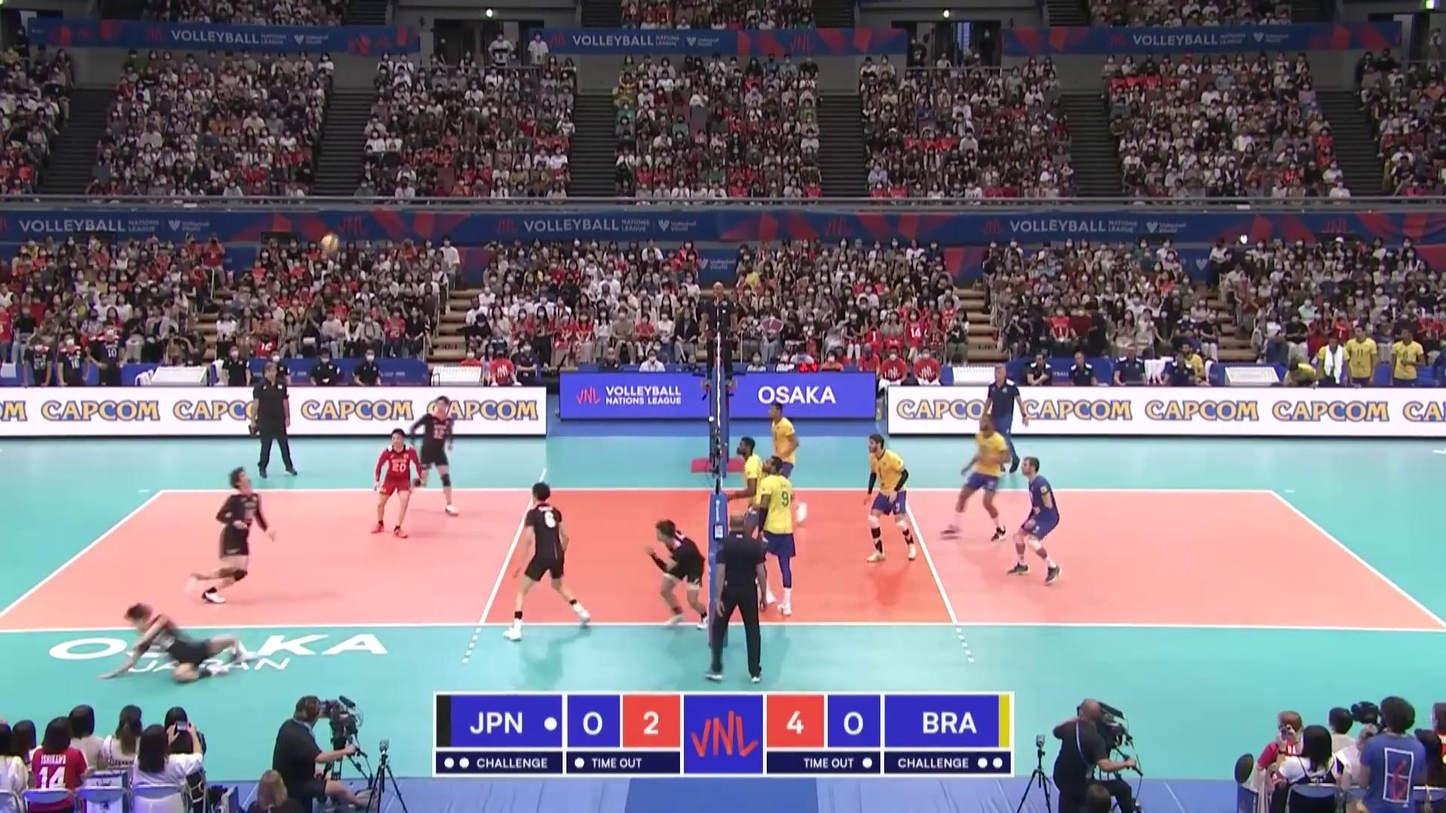player: (502, 483, 593, 643), (181, 469, 275, 606), (102, 604, 264, 683), (944, 416, 1008, 542), (648, 517, 709, 631), (1007, 454, 1060, 583), (861, 435, 915, 560), (731, 436, 773, 589), (405, 396, 456, 519), (755, 457, 794, 617), (765, 403, 810, 526), (373, 427, 420, 537)
refree: (706, 513, 764, 685), (703, 282, 736, 395)
